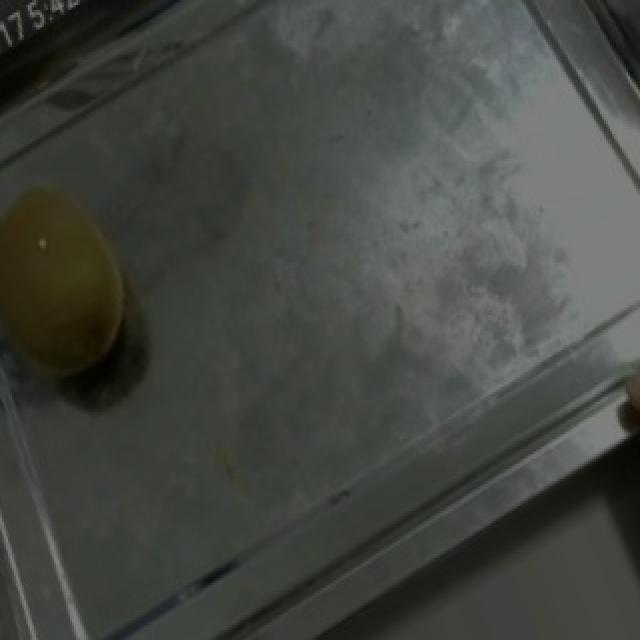Fruit: (0, 154, 166, 424)
